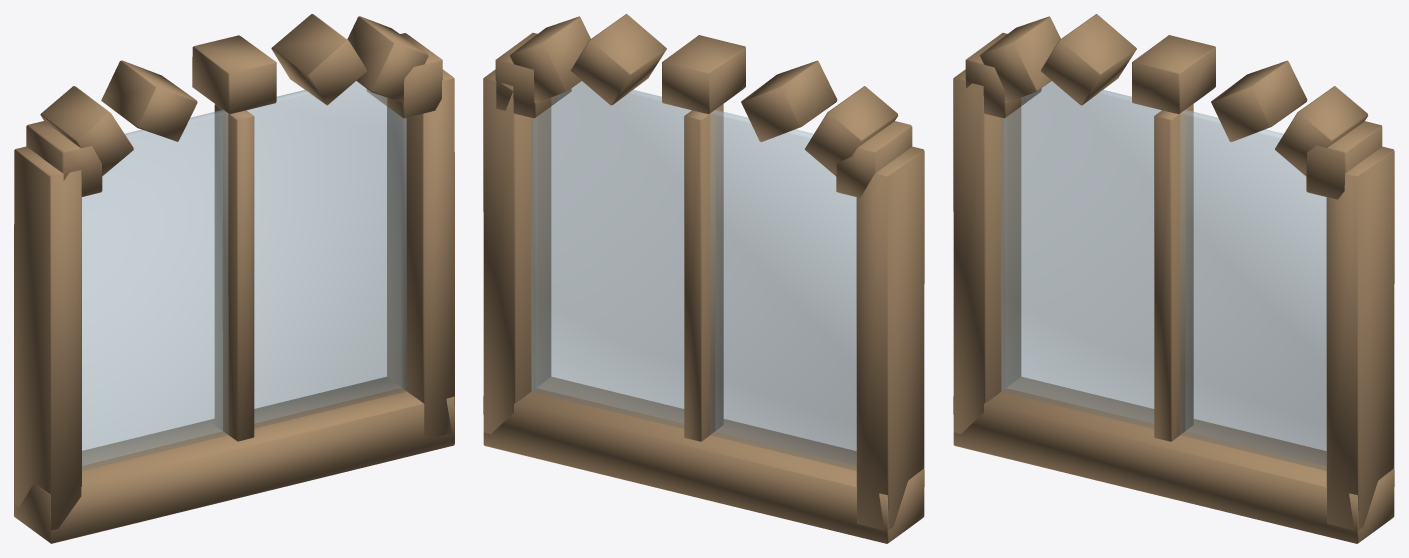
The model's file is struct_window_arch.glb.
3 renders of one model, left to right at view 1: azimuth 30°, elevation 25°; view 2: azimuth 150°, elevation 25°; view 3: azimuth 330°, elevation 25°, orthographic.
Parts seen in each view (by area): view 1: struct_window_arch; view 2: struct_window_arch; view 3: struct_window_arch.
Boxes of the visible parts, x1,y1,x2,y2 form: struct_window_arch: (14, 14, 454, 543); struct_window_arch: (483, 14, 924, 543); struct_window_arch: (953, 14, 1394, 543).
Bounding box in the file's own units: 1 × 1.02 × 0.16.
